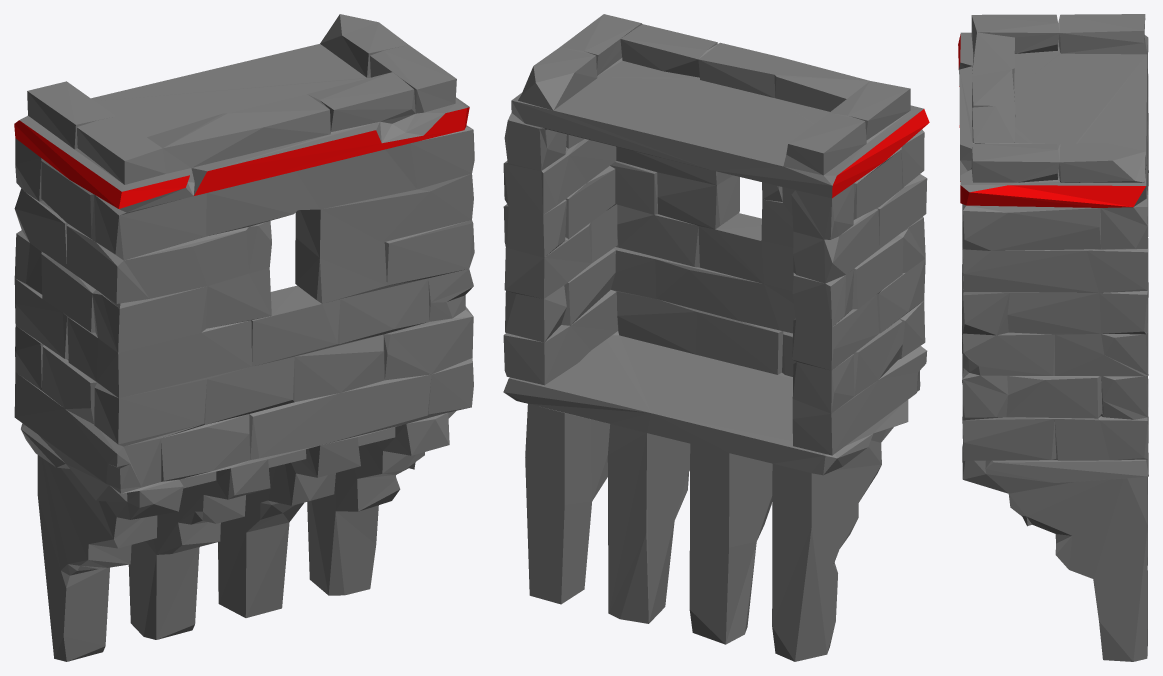
Rendered from WallWindow01.fbx.
3 views of the same model, side by side, from view 1: azimuth 30°, elevation 25°; view 2: azimuth 150°, elevation 25°; view 3: azimuth 270°, elevation 25° (orthographic). The views are drawn at different scales.
Visible parts, largest first — view 1: WallWindow01; view 2: WallWindow01; view 3: WallWindow01.
Boxes of the visible parts, box(x1,y1,x2,y2) form: WallWindow01: box(14, 14, 474, 661); WallWindow01: box(503, 14, 929, 661); WallWindow01: box(958, 14, 1148, 661).
Size of the model in its own units: 402 by 598 by 204.
